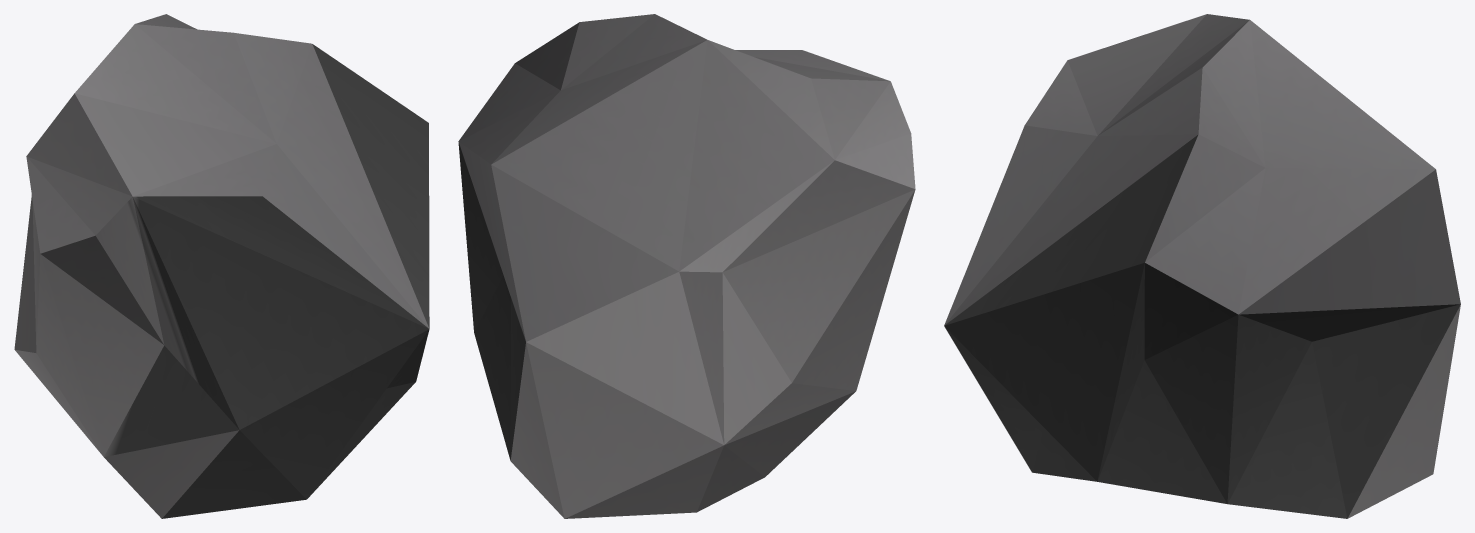
The model's file is rock.fbx.
3 renders of one model, left to right at view 1: azimuth 30°, elevation 25°; view 2: azimuth 150°, elevation 25°; view 3: azimuth 270°, elevation 25°, orthographic.
Parts seen in each view (by area): view 1: Cube.001; view 2: Cube.001; view 3: Cube.001.
Boxes of the visible parts, x1,y1,x2,y2 form: Cube.001: (14,14,429,518); Cube.001: (458,14,915,518); Cube.001: (944,14,1460,518).
Size of the model in its own units: 189 by 207 by 206.
